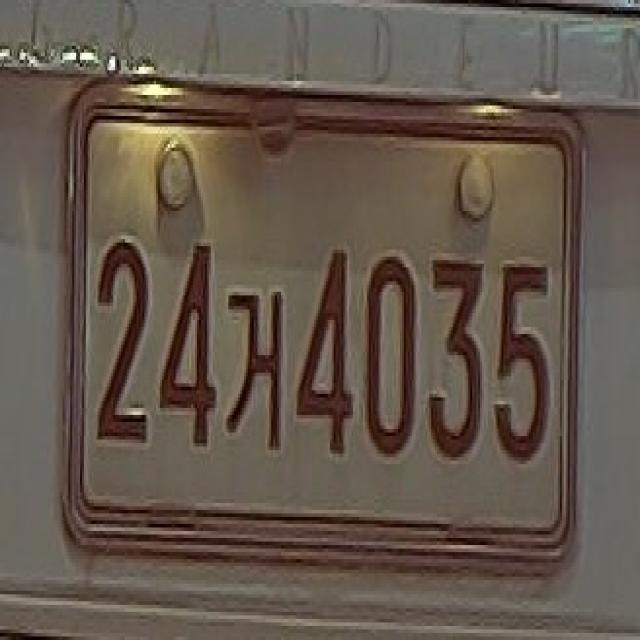0: (362, 228, 420, 478)
2: (92, 209, 155, 462)
3: (424, 228, 488, 474)
4: (291, 219, 358, 472), (160, 228, 220, 461)
5: (490, 242, 560, 472)
geo: (224, 263, 286, 467)
license_plate: (71, 99, 580, 561)
